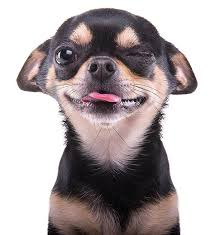chihuahua: (9, 4, 200, 232)
